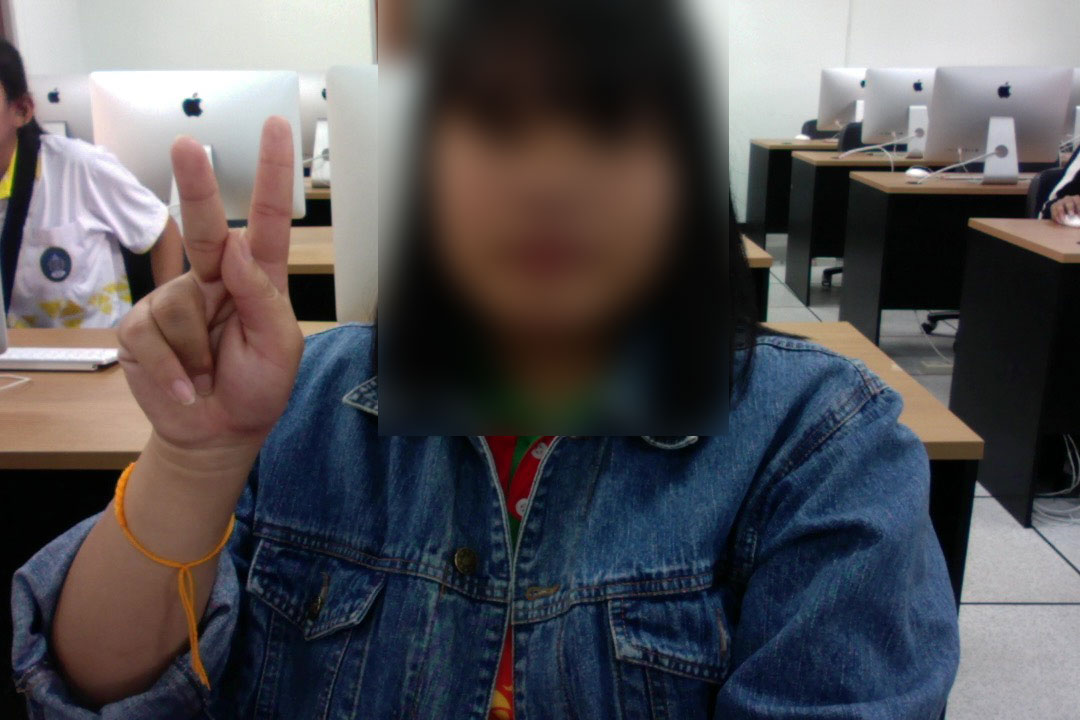ko: (95, 104, 311, 482)
